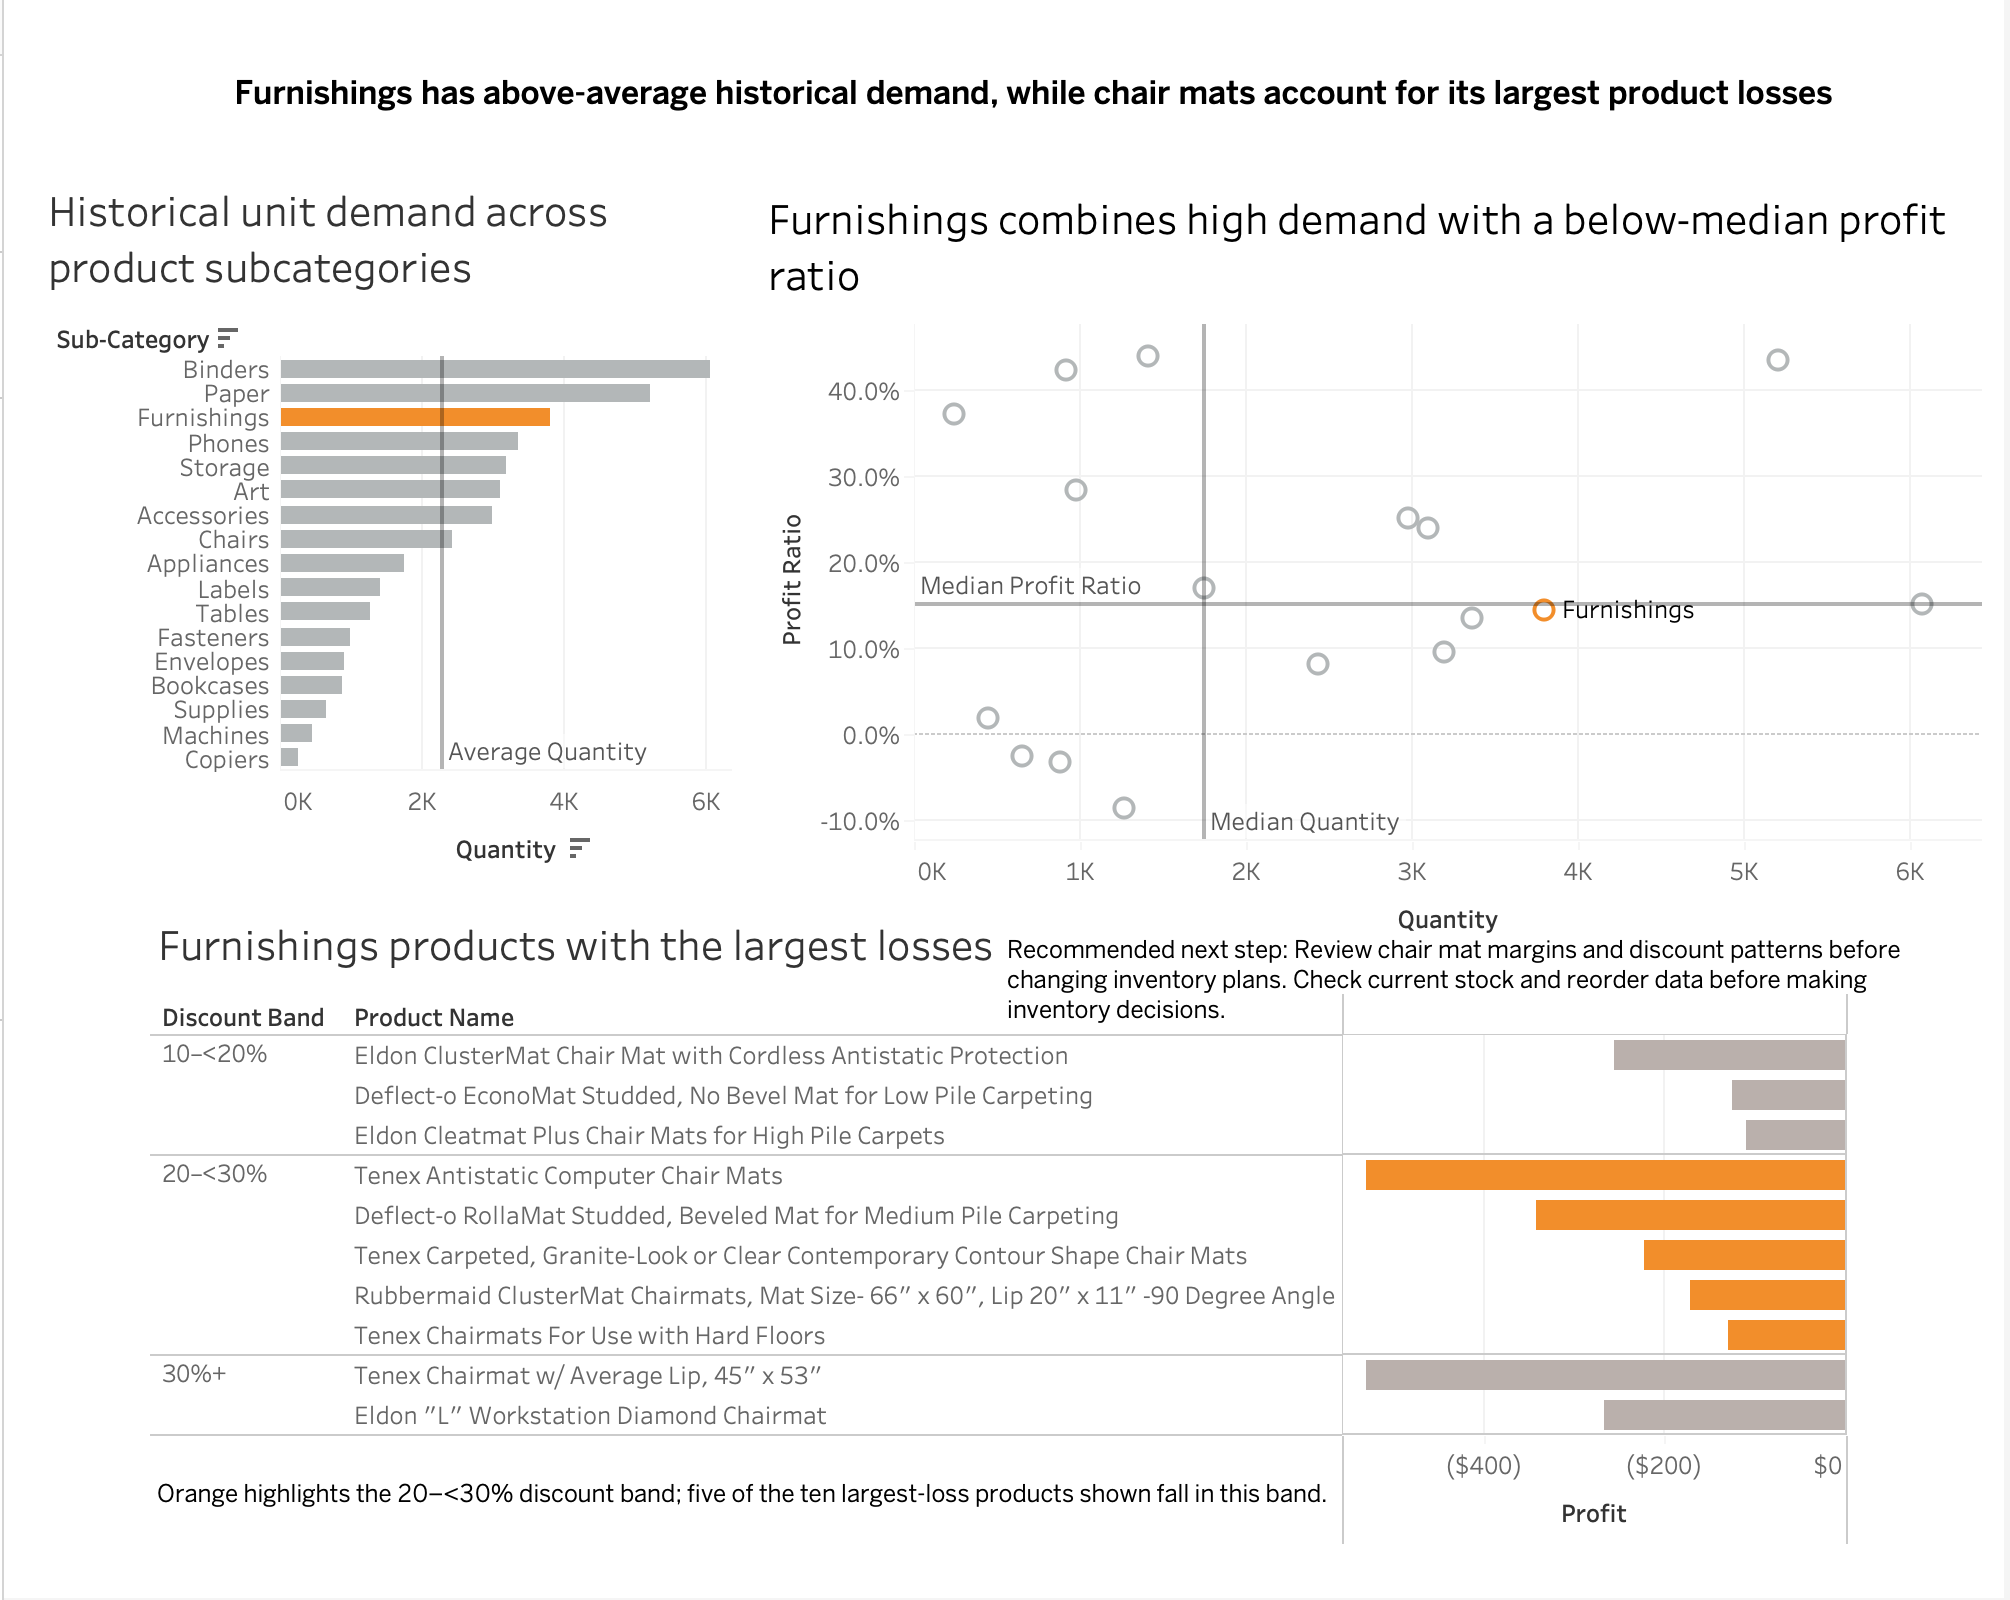

The dashboard page shown, as its layout file describes it:
{"tool":"tableau","page":{"name":"Dashboard 7","canvas":[1000,800],"ordinal":0},"visuals":[{"type":"text","box":[92,6,820,70]},{"type":"worksheet","title":"View2","mark":"Automatic","rows":["Calculation_9921103144103743"],"cols":["Quantity"],"box":[365,54,619,380]},{"type":"worksheet","title":"View1","mark":"Bar","rows":["Sub-Category"],"cols":["Quantity"],"box":[17,58,354,361]},{"type":"worksheet","title":"View3","mark":"Bar","rows":["Calculation_1789936401166345","Product Name"],"cols":["Profit"],"box":[7,413,974,320]},{"type":"text","box":[9,685,588,24]},{"type":"text","box":[7,754,979,38]}]}

Visuals, with their boxes in screenshot pixels (x1, y1, x2, y2), scaled from the page's 1000x800 canvas onto the 2010x1600 screenshot:
text: select_region(185, 12, 1833, 152)
"View2" worksheet: select_region(734, 108, 1978, 868)
"View1" worksheet (Bar marks): select_region(34, 116, 746, 838)
"View3" worksheet (Bar marks): select_region(14, 826, 1972, 1466)
text: select_region(18, 1370, 1200, 1418)
text: select_region(14, 1508, 1982, 1584)
